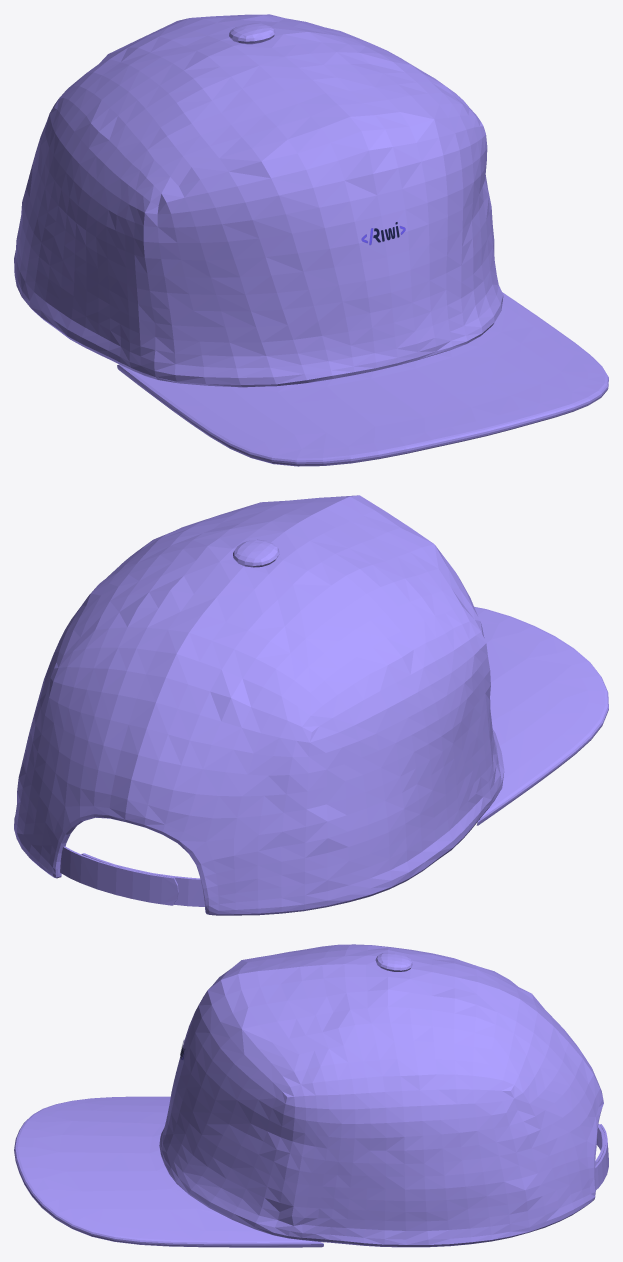
Rendered from cap-snapback.glb.
3 views of the same model, one above another, from view 1: azimuth 30°, elevation 25°; view 2: azimuth 150°, elevation 25°; view 3: azimuth 270°, elevation 25° (orthographic). The views are drawn at different scales.
Parts seen in each view (by area): view 1: cap_lp; view 2: cap_lp; view 3: cap_lp.
Part boxes in pixels (x1=…): cap_lp: x1=14, y1=14, x2=608, y2=466; cap_lp: x1=14, y1=495, x2=608, y2=915; cap_lp: x1=14, y1=944, x2=608, y2=1247.
Size of the model in its own units: 2.65 by 1.76 by 4.34.
Materials: 2 (1 with a texture image).
